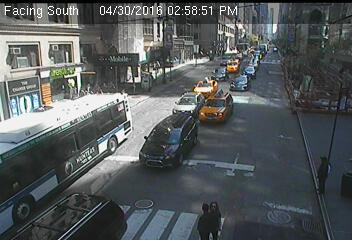neg: (159, 144, 189, 185), (67, 190, 92, 225), (40, 150, 61, 178), (326, 83, 346, 111), (266, 204, 285, 229), (300, 83, 314, 102), (125, 76, 139, 94), (269, 58, 283, 76), (213, 95, 223, 110)
pos: (311, 156, 340, 195), (202, 199, 230, 237), (192, 201, 219, 237)
